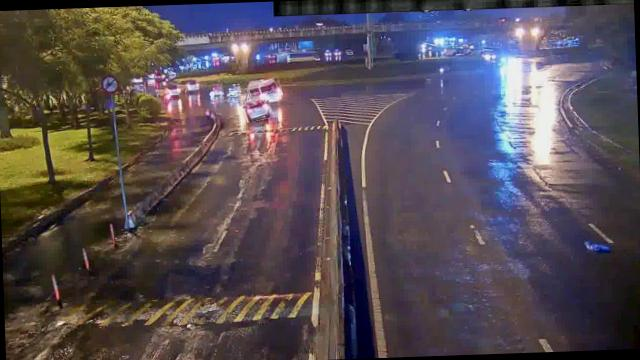Bus: (248, 80, 282, 102)
Car: (243, 96, 272, 121)
